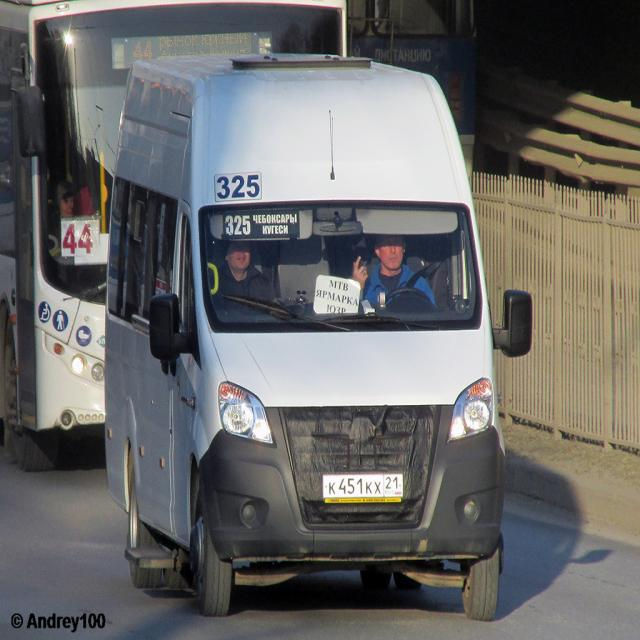number-of-bus: (216, 174, 263, 201), (223, 214, 254, 239)
